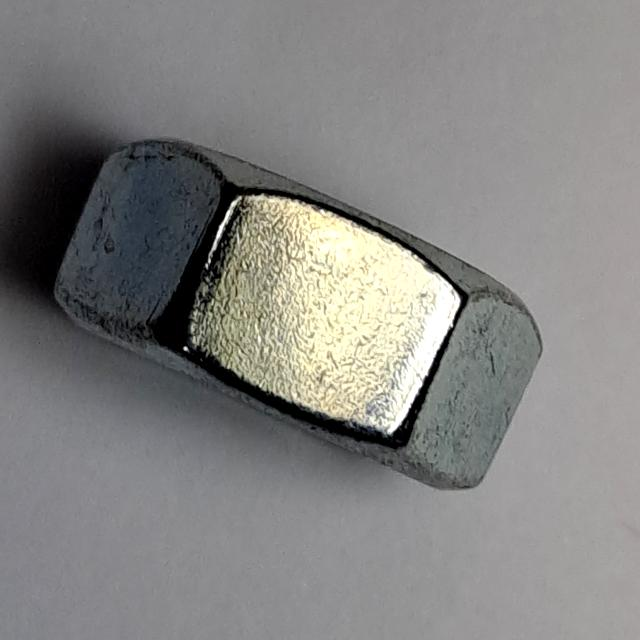Side_Excellent: (42, 124, 561, 513)
